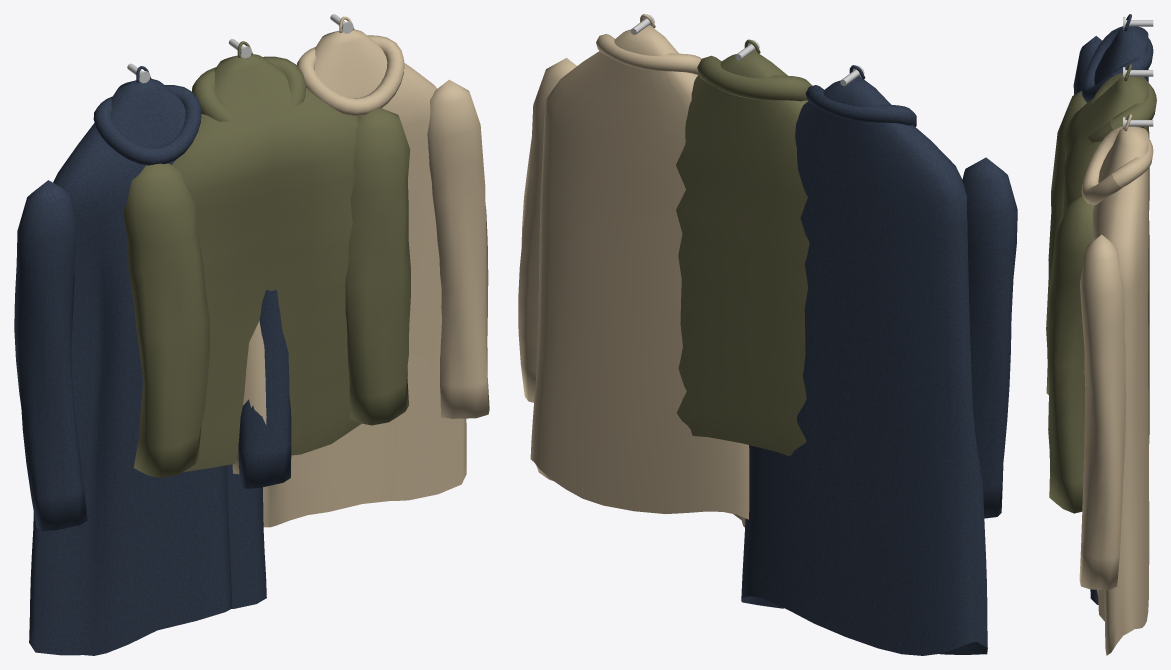
Rendered from coats.glb.
3 renders of one model, left to right at view 1: azimuth 30°, elevation 25°; view 2: azimuth 150°, elevation 25°; view 3: azimuth 270°, elevation 25°, orthographic. The views are drawn at different scales.
Visible parts, largest first — view 1: coats; view 2: coats; view 3: coats.
Boxes of the visible parts, <box> form: coats: <box>14,14,489,655</box>; coats: <box>518,14,1017,655</box>; coats: <box>1046,14,1156,655</box>.
Size of the model in its own units: 0.9338 by 1.06 by 0.1874.
Materials: 4 (2 with a texture image).
